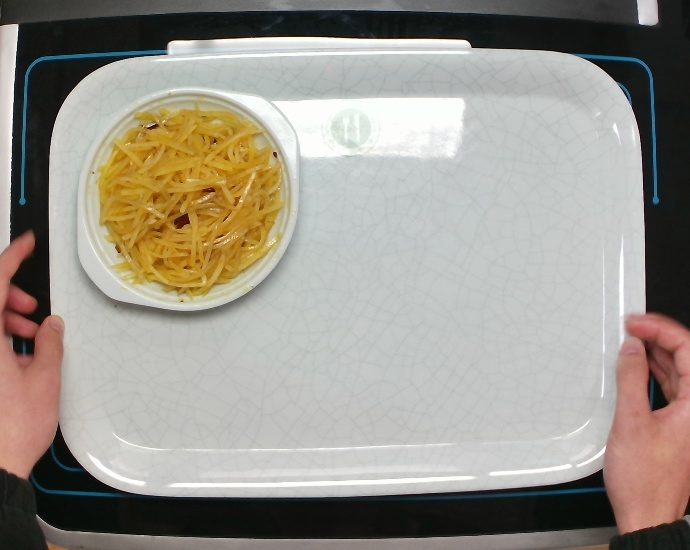JYsf-Shuang_Er_Pan: (71, 87, 303, 316)
